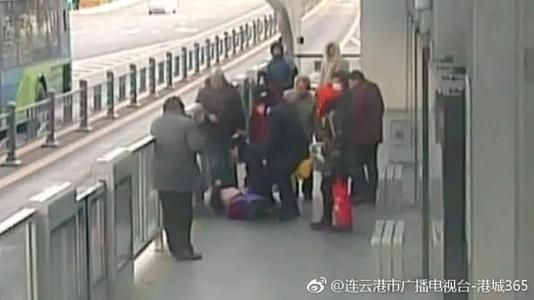fall: (200, 177, 287, 222)
